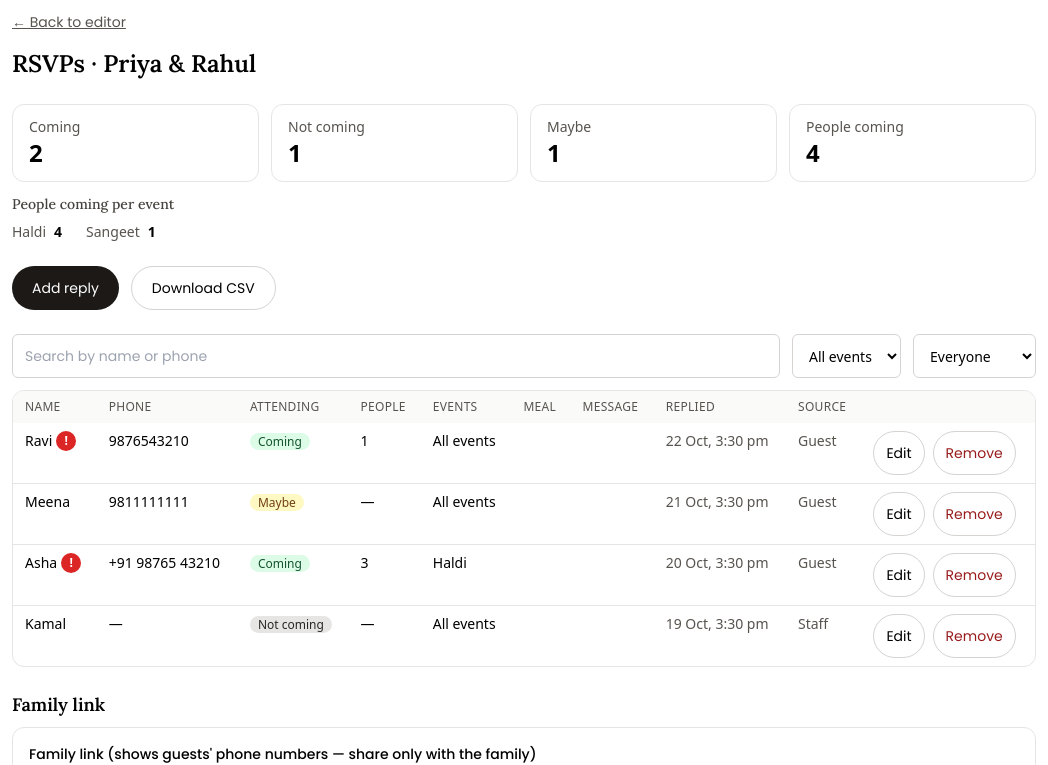
Test: RsvpPage › shows a per-row error when removing fails
Click the button with aria-label "Remove: Kamal".
click(974, 636)  # box [933,614,1016,658]
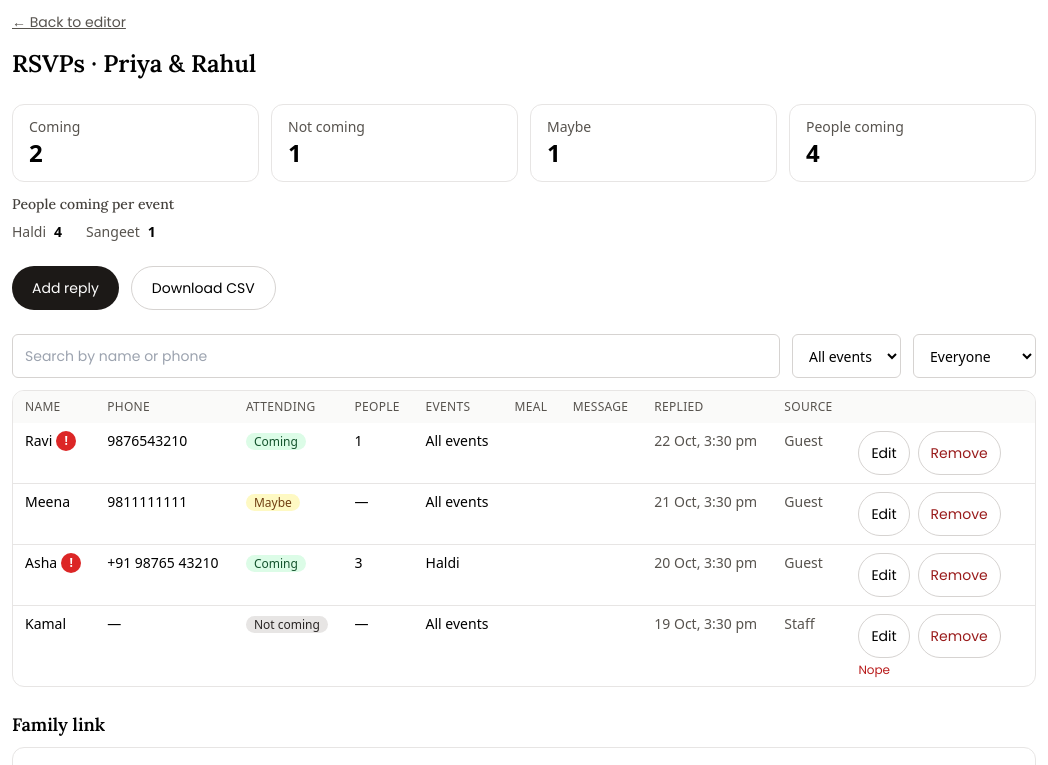
Expected: the message reads "Nope", [858,661,890,678]
